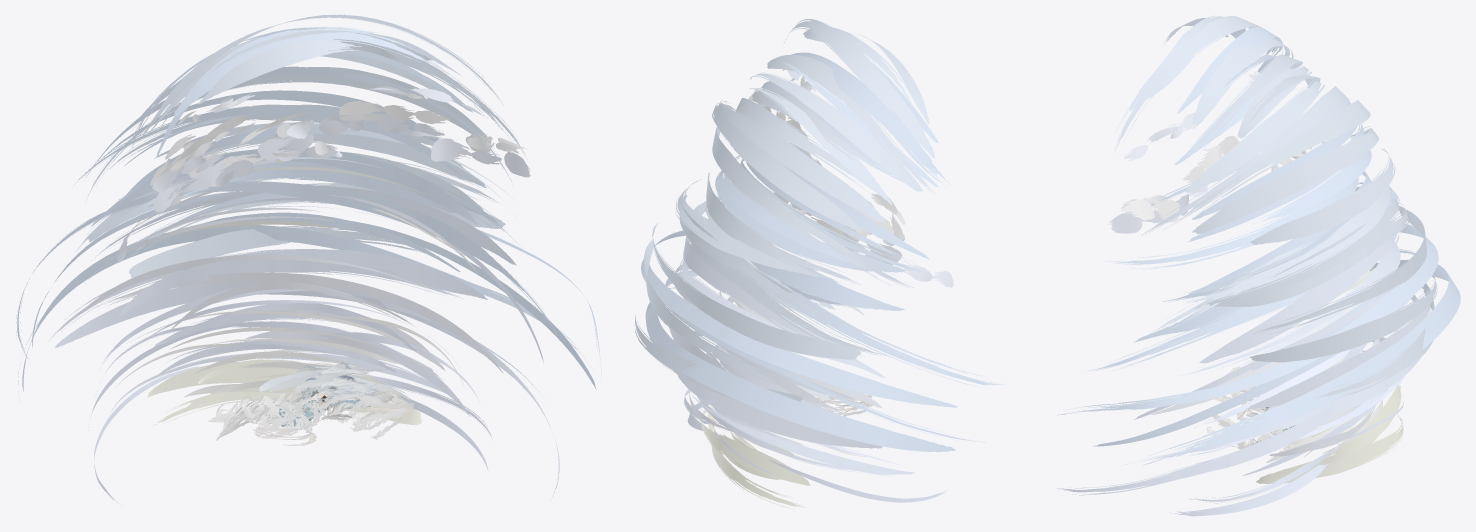
The model's file is wanderer_above_the_sea_of_fog-old.glb.
The picture shows the model from 3 angles, left to right: view 1: azimuth 30°, elevation 25°; view 2: azimuth 150°, elevation 25°; view 3: azimuth 270°, elevation 25°; orthographic projection. The views are drawn at different scales.
Parts seen in each view (by area): view 1: brush_Ink_g0_b2_4, brush_Ink_g0_b1_3, brush_ThickPaint_g0_b0_5; view 2: brush_Ink_g0_b2_4, brush_Ink_g0_b1_3, brush_ThickPaint_g0_b0_5; view 3: brush_Ink_g0_b2_4, brush_Ink_g0_b1_3, brush_ThickPaint_g0_b0_5.
Part boxes in pixels (x1,y1,x2,y2): brush_Ink_g0_b2_4: (16,14,601,497); brush_Ink_g0_b1_3: (88,283,492,502); brush_ThickPaint_g0_b0_5: (233,386,414,445); brush_Ink_g0_b2_4: (634,19,1004,452); brush_Ink_g0_b1_3: (684,344,948,509); brush_ThickPaint_g0_b0_5: (816,395,874,416); brush_Ink_g0_b2_4: (1057,15,1460,495); brush_Ink_g0_b1_3: (1149,330,1404,516); brush_ThickPaint_g0_b0_5: (1206,366,1293,452).
Bounding box in the file's own units: 591 × 571 × 502.
4 materials, 4 textured.
